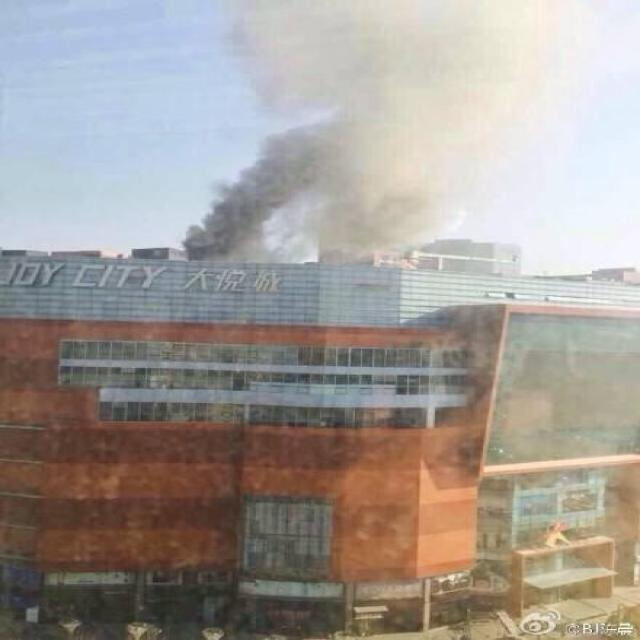Smoke: (179, 0, 640, 267)
